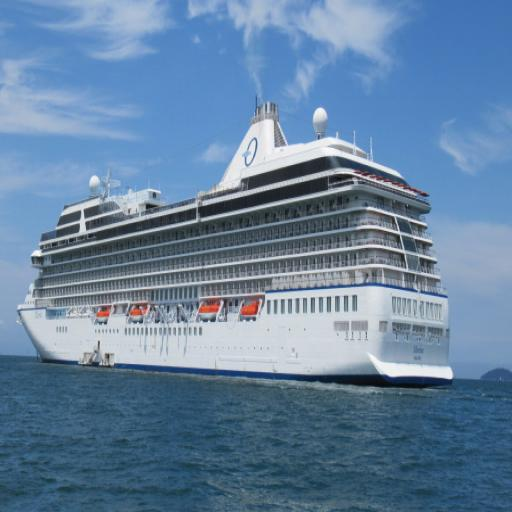cruises: (17, 97, 459, 393)
